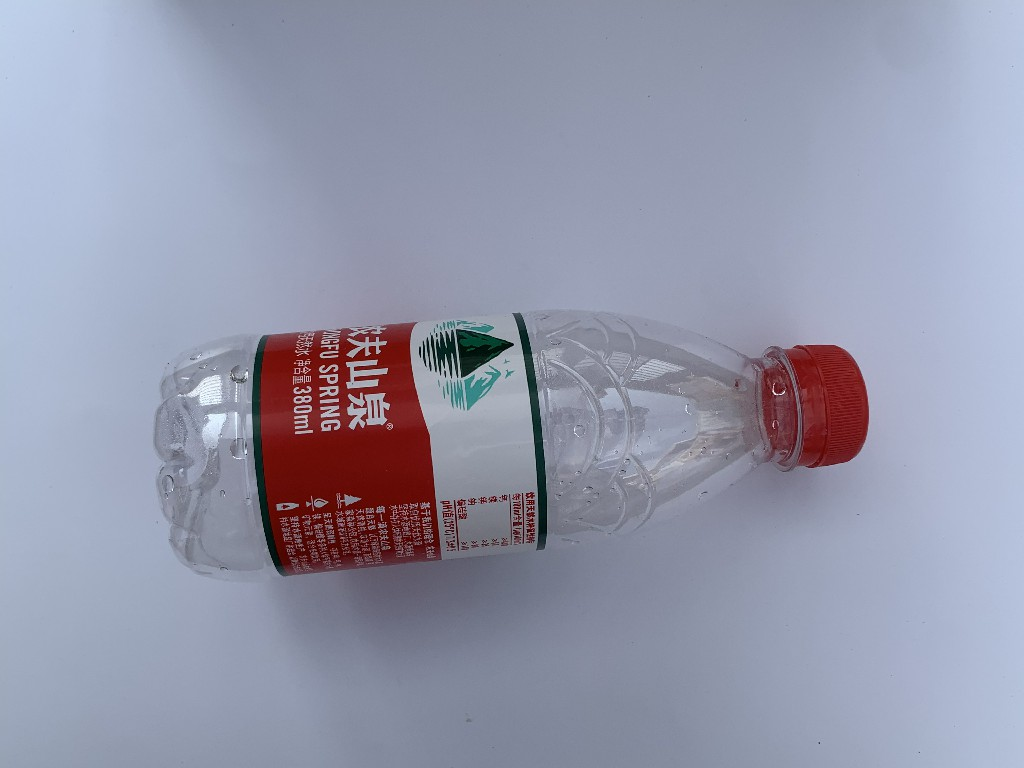bottle: (150, 305, 874, 580)
